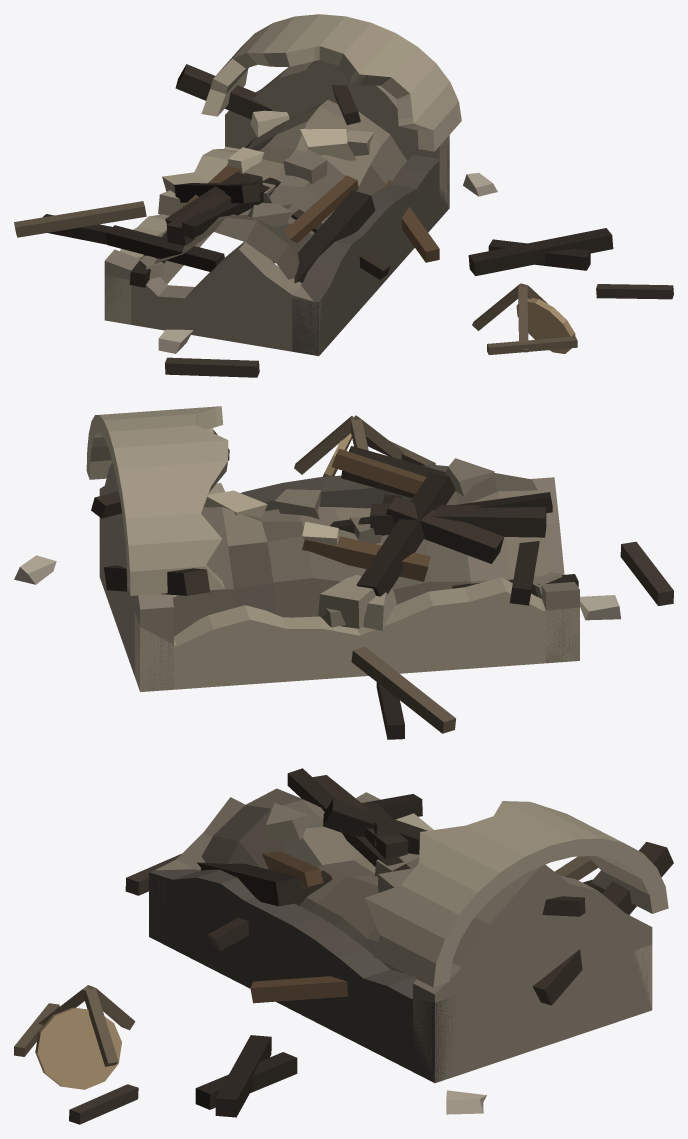
File: VerHut04a.glb
3 renders of one model, top to bottom at view 1: azimuth 30°, elevation 25°; view 2: azimuth 150°, elevation 25°; view 3: azimuth 270°, elevation 25°, orthographic. The views are drawn at different scales.
Parts seen in each view (by area): view 1: VerHut04a_side; view 2: VerHut04a_side; view 3: VerHut04a_side.
Boxes of the visible parts, <box> form: VerHut04a_side: <box>14,14,673,377</box>; VerHut04a_side: <box>14,406,673,739</box>; VerHut04a_side: <box>14,768,673,1124</box>.
Size of the model in its own units: 5.59 by 2.28 by 5.77.
